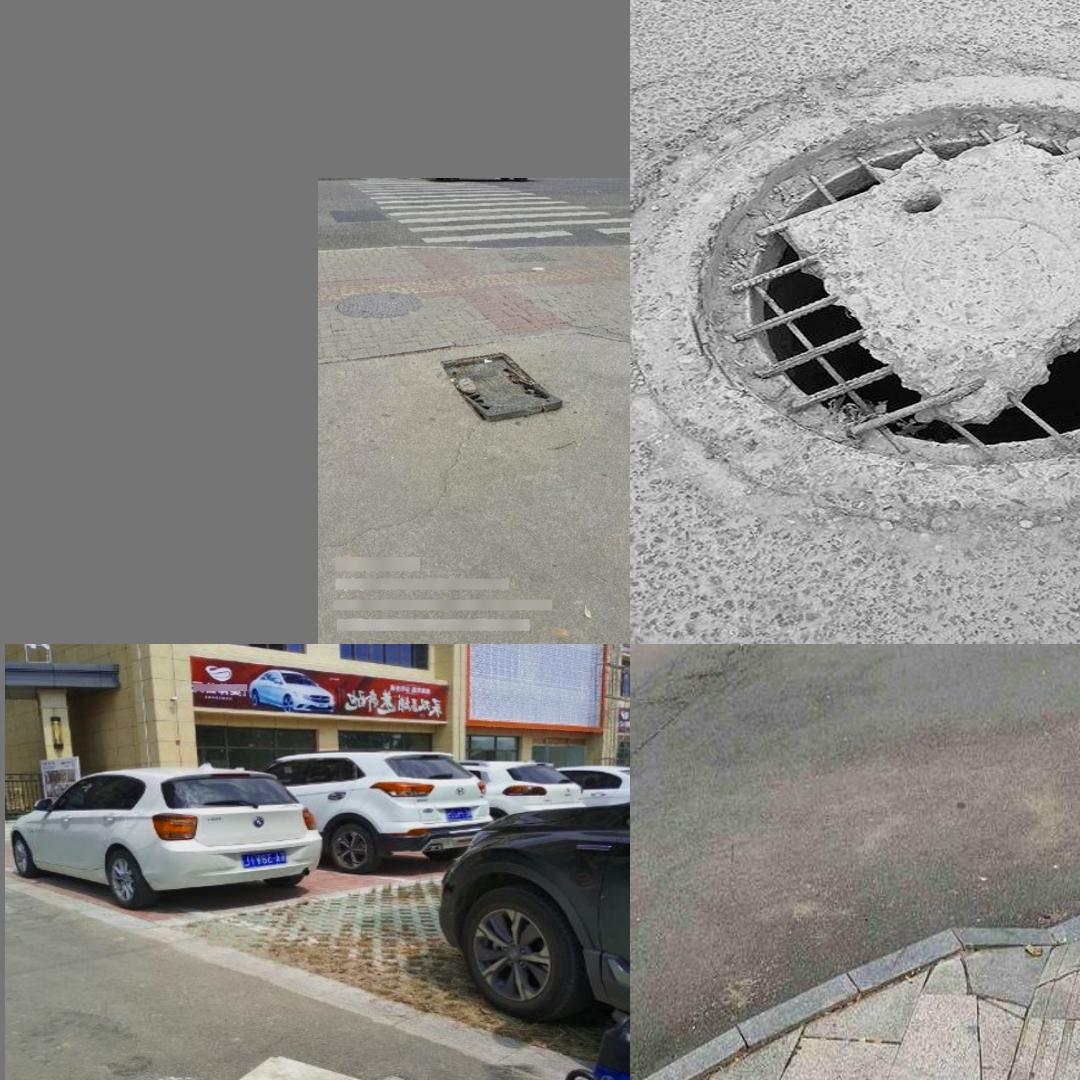broke: (648, 45, 1080, 511), (440, 352, 563, 421)
good: (332, 290, 423, 318)
